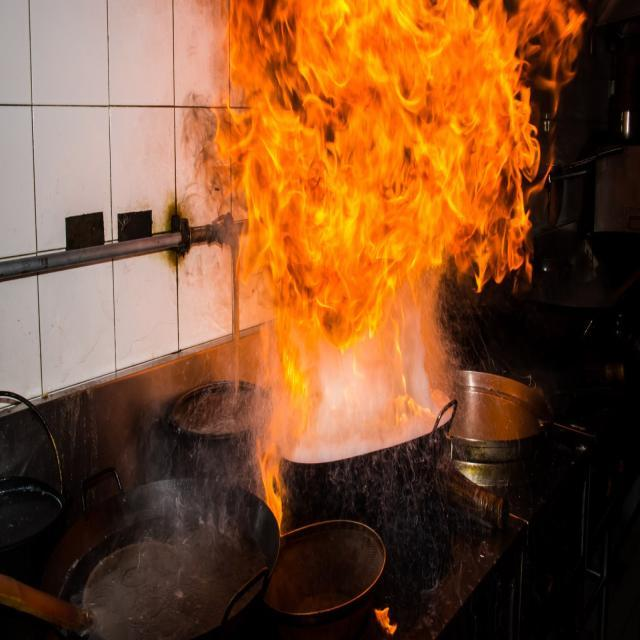Fire: (223, 4, 533, 278)
